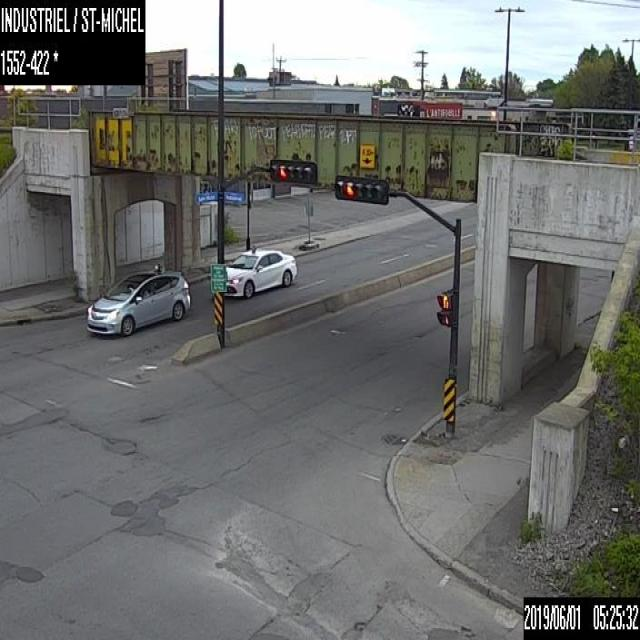vehicle: (84, 267, 191, 337), (223, 244, 296, 295)
